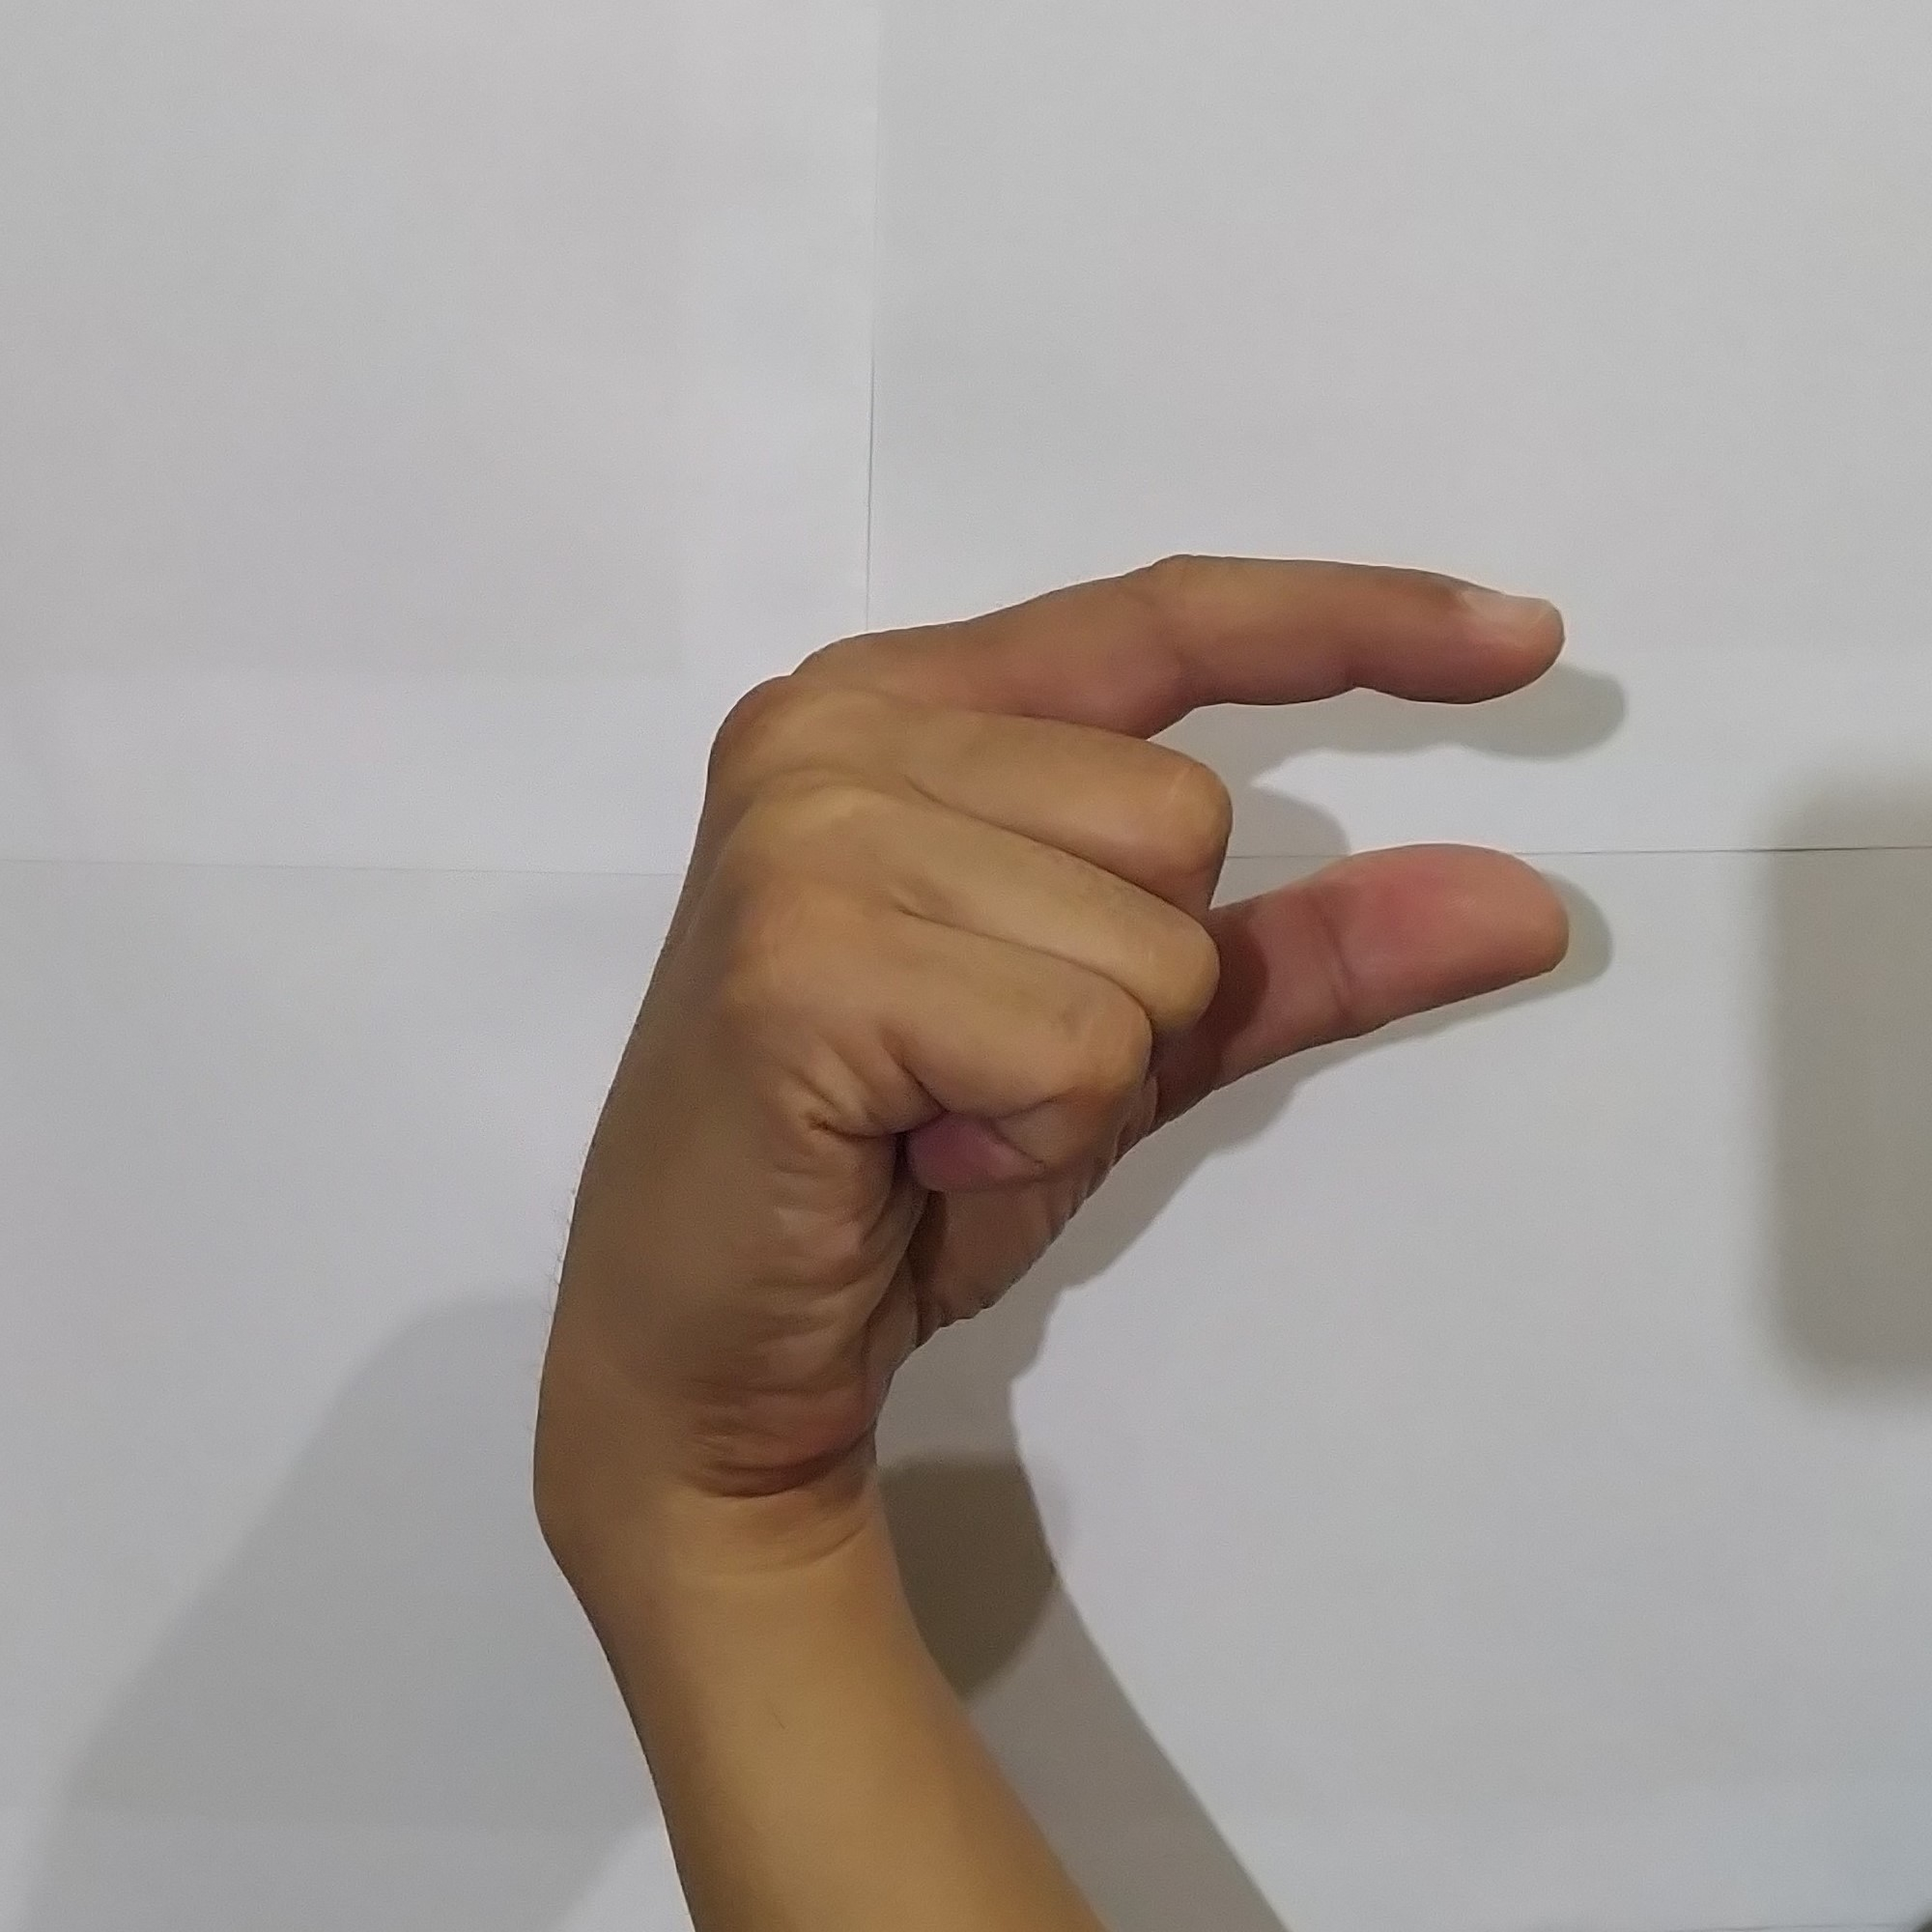G: (531, 527, 1592, 1445)
